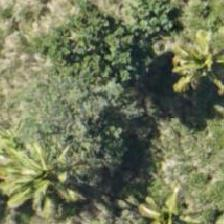coconut_tree: (0, 134, 82, 223), (145, 24, 223, 114), (117, 170, 207, 223)
